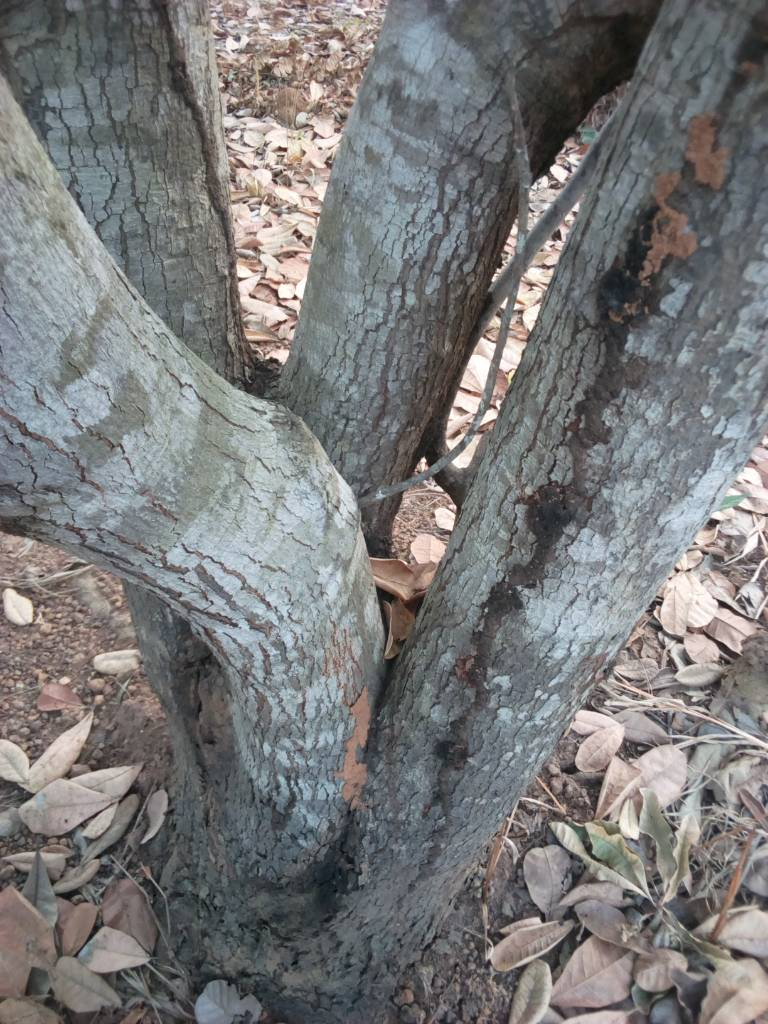Termites: (421, 157, 679, 839)
